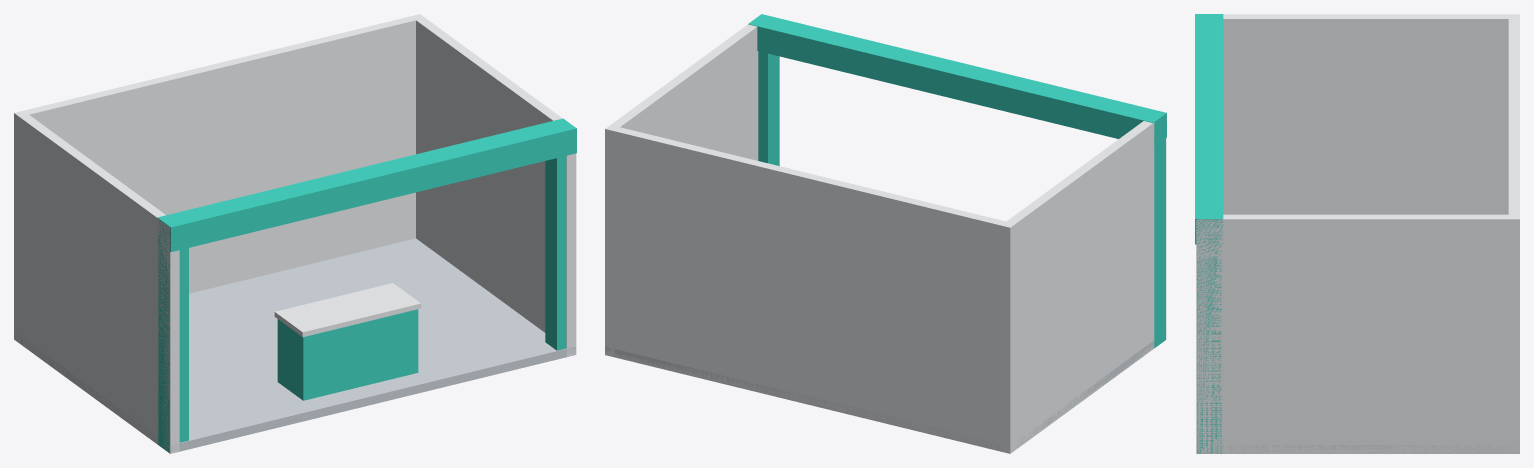
The picture shows the model from 3 angles, left to right: view 1: azimuth 30°, elevation 25°; view 2: azimuth 150°, elevation 25°; view 3: azimuth 270°, elevation 25°; orthographic projection. The views are drawn at different scales.
Parts seen in each view (by area): view 1: Exhibition Booth Concept; view 2: Exhibition Booth Concept; view 3: Exhibition Booth Concept.
Part boxes in pixels (<box>): Exhibition Booth Concept: <box>14,14,576,453</box>; Exhibition Booth Concept: <box>605,14,1166,453</box>; Exhibition Booth Concept: <box>1195,14,1519,453</box>.
Bounding box in the file's own units: 6 × 3.2 × 4.02.
